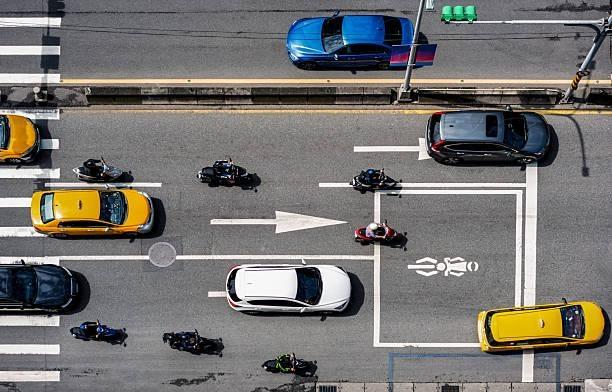Motorcycle: (196, 158, 260, 192), (68, 320, 132, 346), (164, 328, 227, 354), (70, 156, 130, 182), (262, 352, 319, 378), (346, 166, 394, 192), (356, 224, 401, 245)
